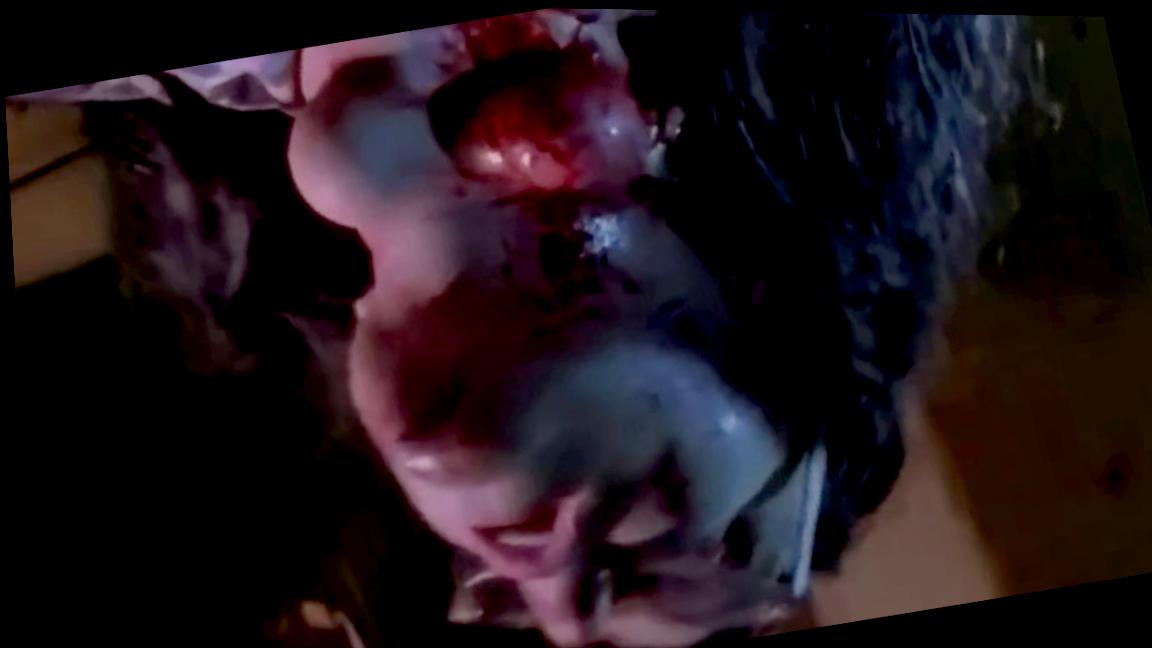Fire: (425, 6, 649, 316), (382, 400, 478, 474), (634, 442, 684, 521)
